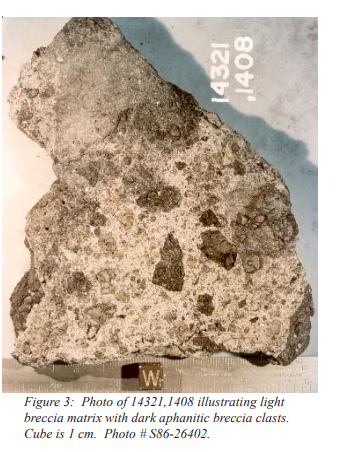Breccia: (7, 20, 313, 370), (49, 64, 273, 355), (148, 136, 306, 361)
